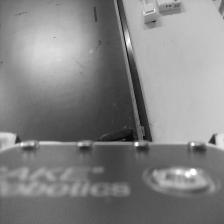Door Handle: (98, 126, 138, 142)
